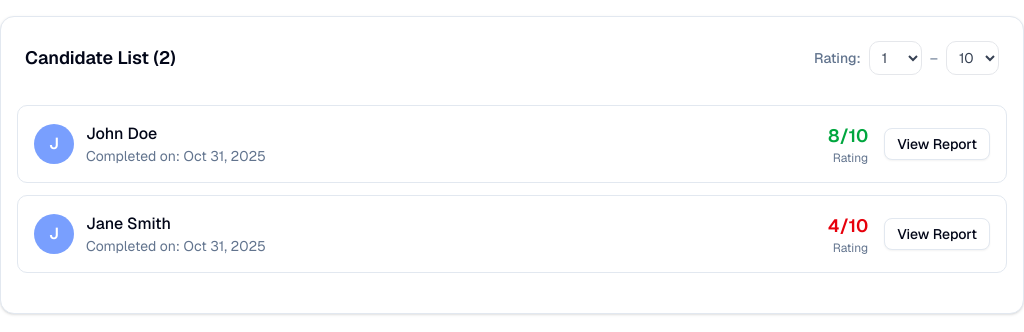
Test: CandidateList Component › filters candidates by min rating
This screenshot has width=1024, height=332.
Select "6" in the 1st dropdown. click: (895, 58)
box: [869,41,922,75]
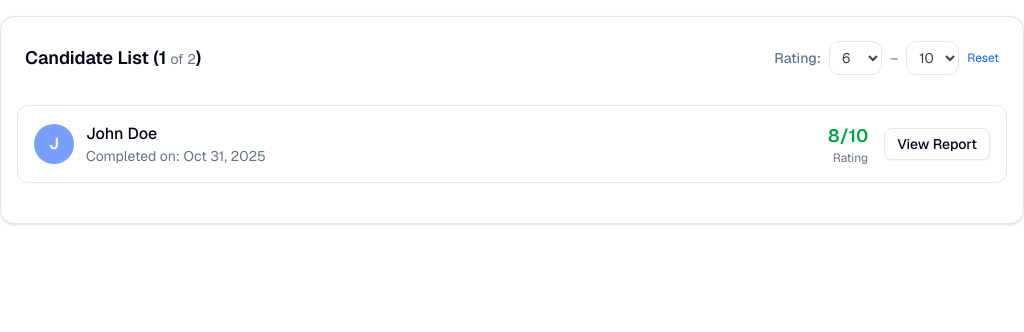
Expected: the heading "John Doe" is shown, [86,123,157,144]
Expected: the heading "Jane Smith" is gone
